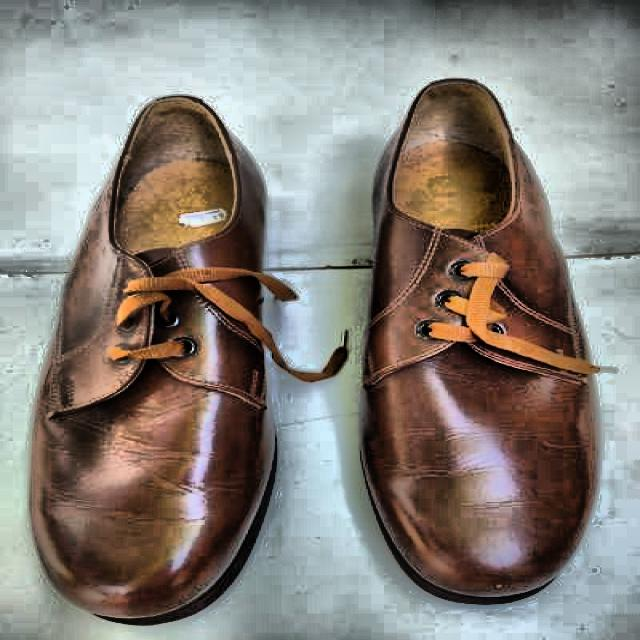shoes: (24, 72, 613, 626)
